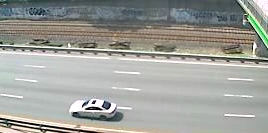car: (67, 96, 120, 122)
